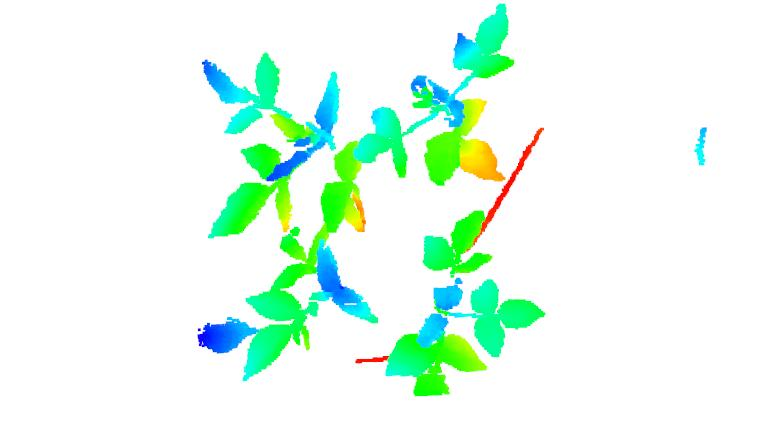mungbean: (194, 52, 373, 240), (351, 2, 518, 185), (389, 210, 548, 399), (188, 230, 381, 381)
